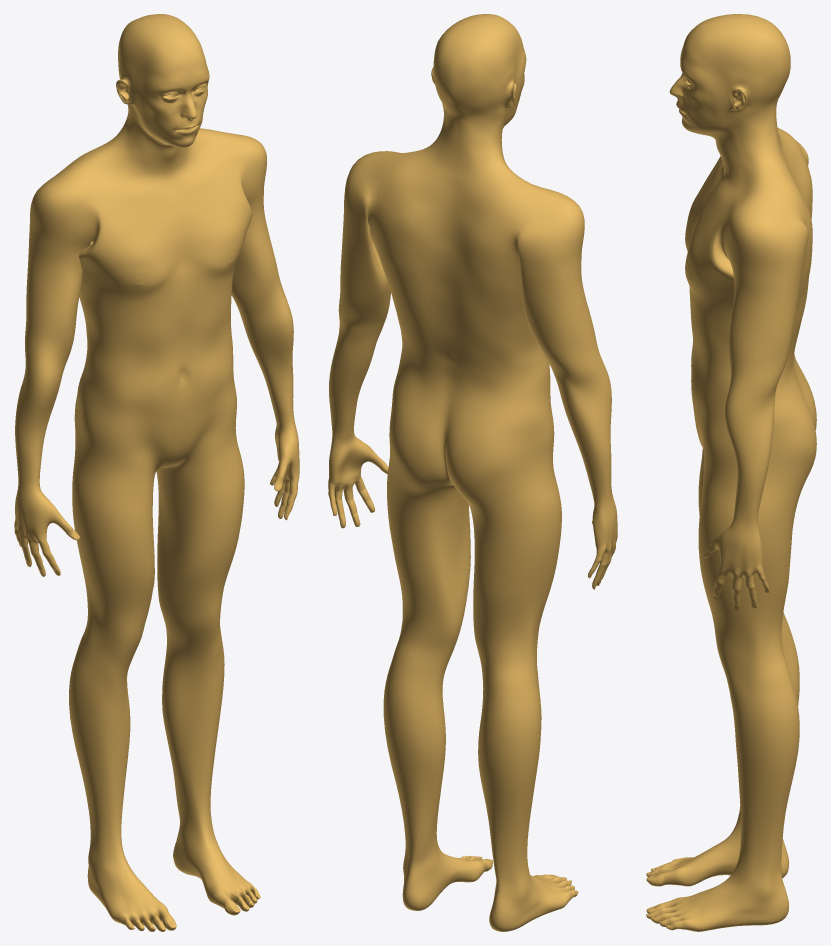
Rendered from adipose-web.glb.
The picture shows the model from 3 angles, left to right: view 1: azimuth 30°, elevation 25°; view 2: azimuth 150°, elevation 25°; view 3: azimuth 270°, elevation 25°; orthographic projection.
Parts seen in each view (by area): view 1: Subcutaneous adipose; view 2: Subcutaneous adipose; view 3: Subcutaneous adipose.
Boxes of the visible parts, <box> form: Subcutaneous adipose: <box>14,14,299,931</box>; Subcutaneous adipose: <box>328,14,617,931</box>; Subcutaneous adipose: <box>646,14,816,931</box>.
Bounding box in the file's own units: 0.5685 × 1.72 × 0.3008.
